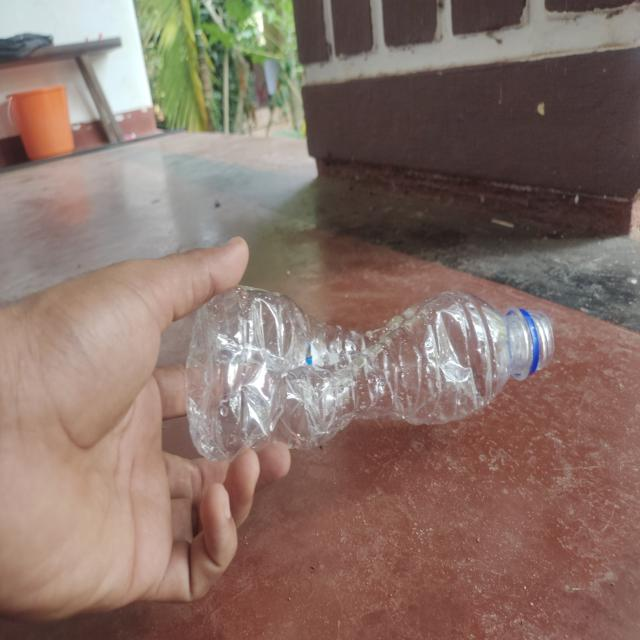plastic: (189, 282, 557, 448)
